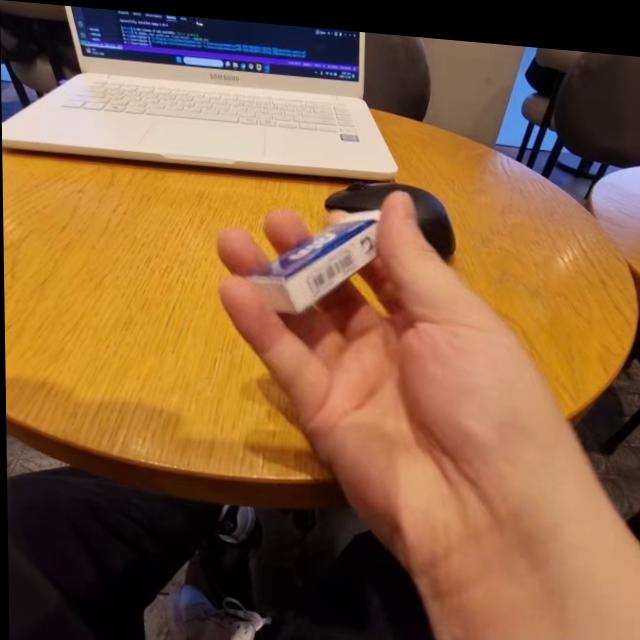grab_eraser: (216, 184, 585, 553)
